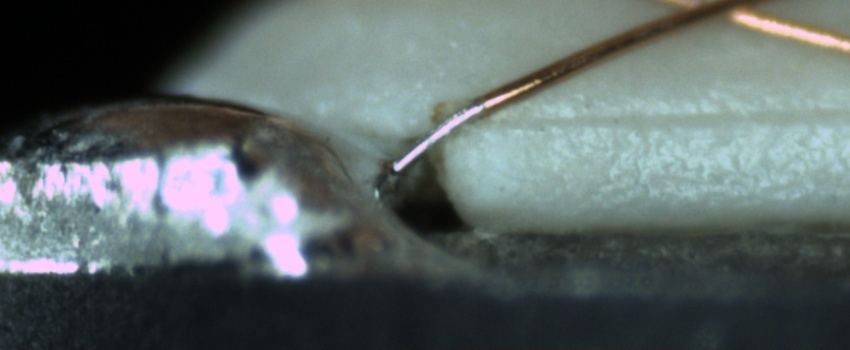CL: (654, 1, 802, 32)
DL: (518, 89, 849, 150)
TS: (390, 101, 485, 173)
